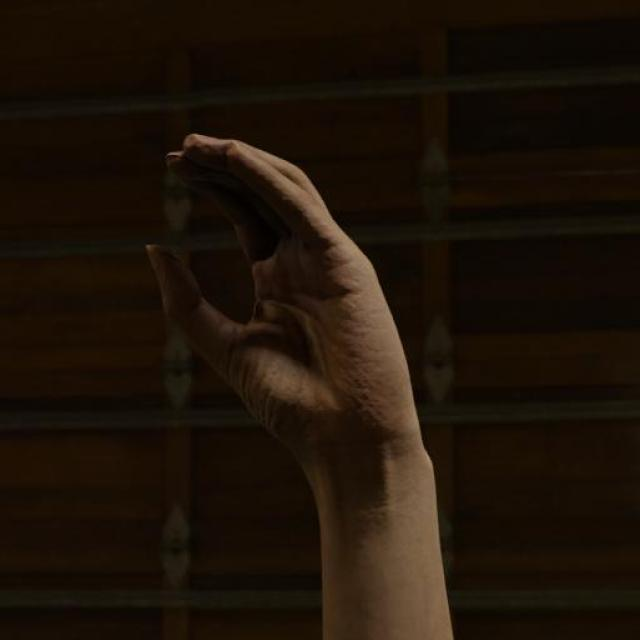C: (143, 128, 436, 461)
